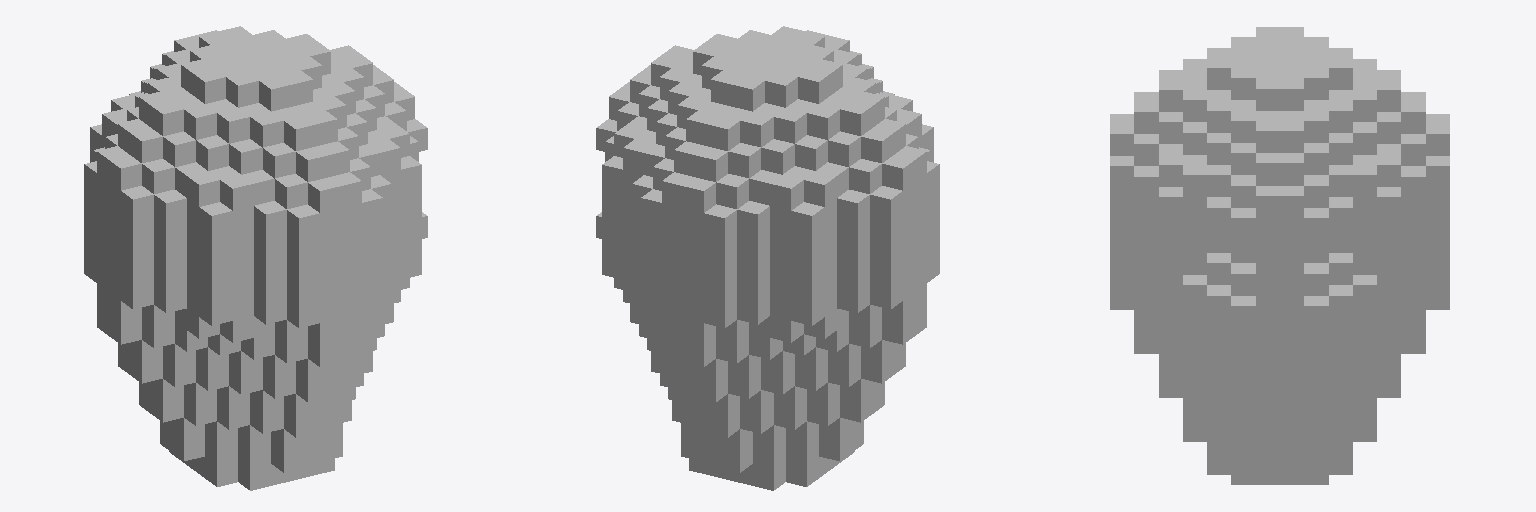
The model's file is Head.obj.
The picture shows the model from 3 angles: view 1: azimuth 30°, elevation 25°; view 2: azimuth 150°, elevation 25°; view 3: azimuth 270°, elevation 25°; orthographic projection.
Parts seen in each view (by area): view 1: object 1; view 2: object 1; view 3: object 1.
Part boxes in pixels (x1,y1,x2,y2): object 1: (84, 26, 427, 490); object 1: (596, 26, 939, 490); object 1: (1110, 27, 1449, 484).
Bounding box in the file's own units: 2.8 × 3.6 × 2.8.